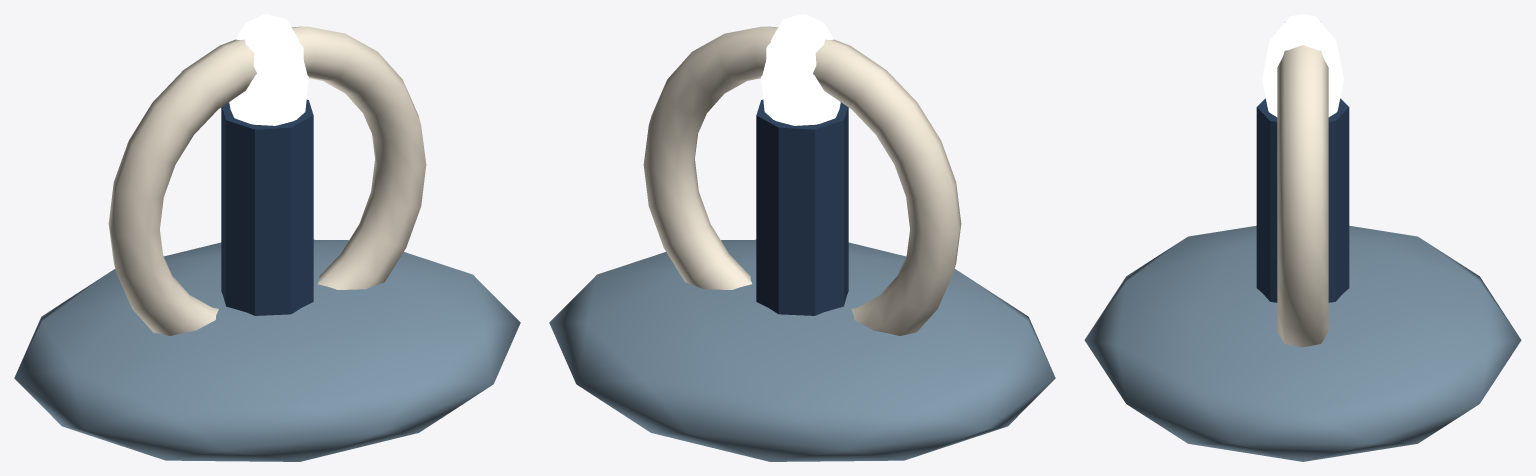
Rendered from ruin-beacon.glb.
3 renders of one model, left to right at view 1: azimuth 30°, elevation 25°; view 2: azimuth 150°, elevation 25°; view 3: azimuth 270°, elevation 25°, orthographic. The views are drawn at different scales.
Parts seen in each view (by area): view 1: Ancient reef, Broken tide ring, Tide beacon, Tide flame; view 2: Ancient reef, Broken tide ring, Tide beacon, Tide flame; view 3: Ancient reef, Broken tide ring, Tide beacon, Tide flame.
Part boxes in pixels (bbox=[...]): Ancient reef: bbox=[14, 239, 520, 461]; Broken tide ring: bbox=[108, 26, 426, 335]; Tide beacon: bbox=[221, 99, 313, 315]; Tide flame: bbox=[229, 14, 308, 125]; Ancient reef: bbox=[549, 239, 1055, 461]; Broken tide ring: bbox=[643, 26, 961, 335]; Tide beacon: bbox=[756, 99, 848, 315]; Tide flame: bbox=[761, 14, 840, 125]; Ancient reef: bbox=[1084, 225, 1521, 461]; Broken tide ring: bbox=[1277, 22, 1328, 347]; Tide beacon: bbox=[1256, 98, 1349, 302]; Tide flame: bbox=[1262, 14, 1343, 116].
Size of the model in its own units: 1.9 by 1.64 by 1.7.
